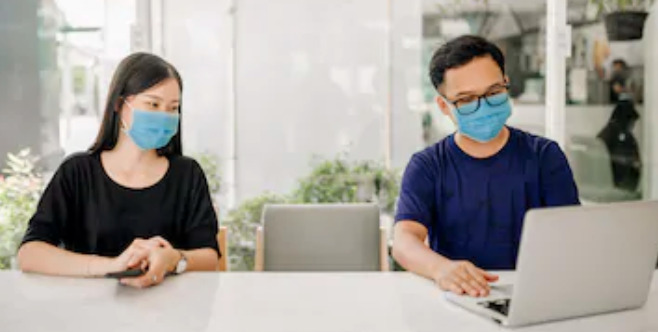Good: (13, 34, 585, 297)
